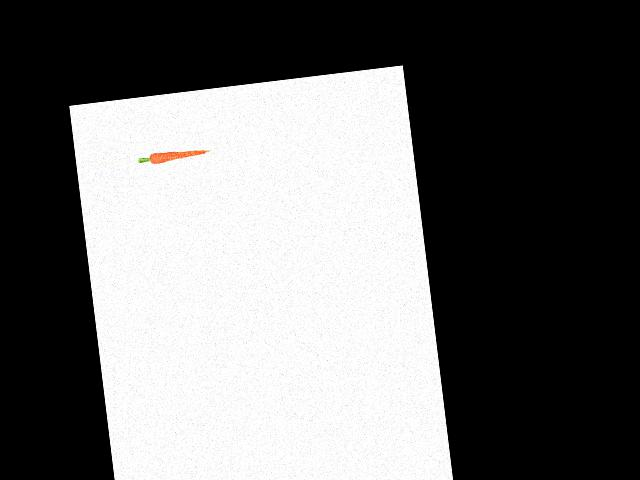carrot: (147, 143, 214, 167)
